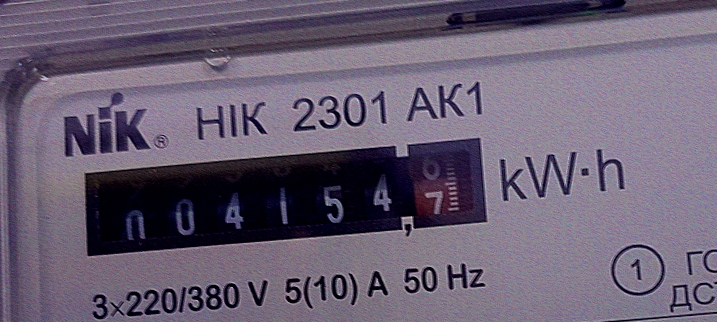0: (172, 195, 197, 238), (122, 205, 147, 241)
1: (275, 184, 292, 227)
4: (220, 189, 246, 232), (369, 169, 393, 214)
5: (320, 179, 348, 225)
6: (419, 151, 444, 182)
7: (422, 187, 445, 217)
screen: (64, 122, 505, 271)
